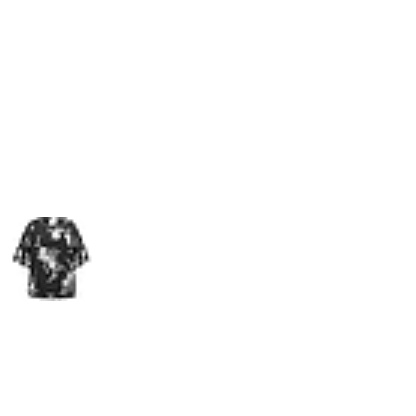Shirt: (10, 217, 94, 301)
